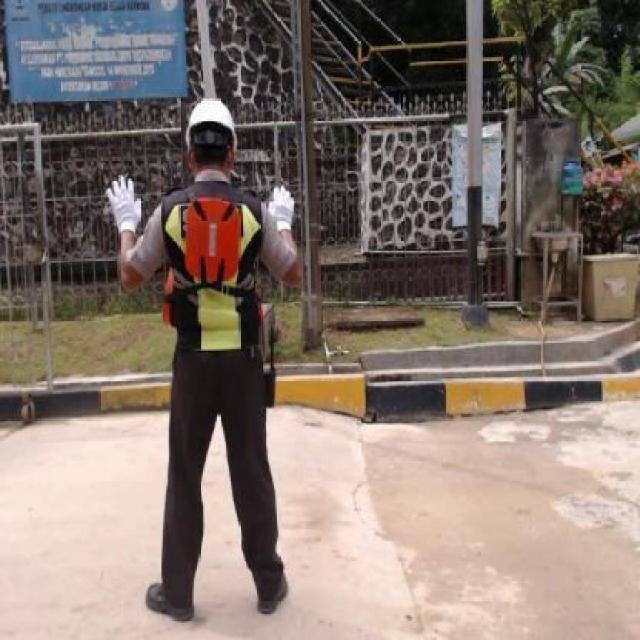Boots: (140, 577, 202, 626), (256, 564, 292, 619)
Gloves: (99, 168, 146, 240), (264, 180, 308, 235)
Helmet: (182, 95, 242, 143)
Vest: (165, 173, 266, 358)
